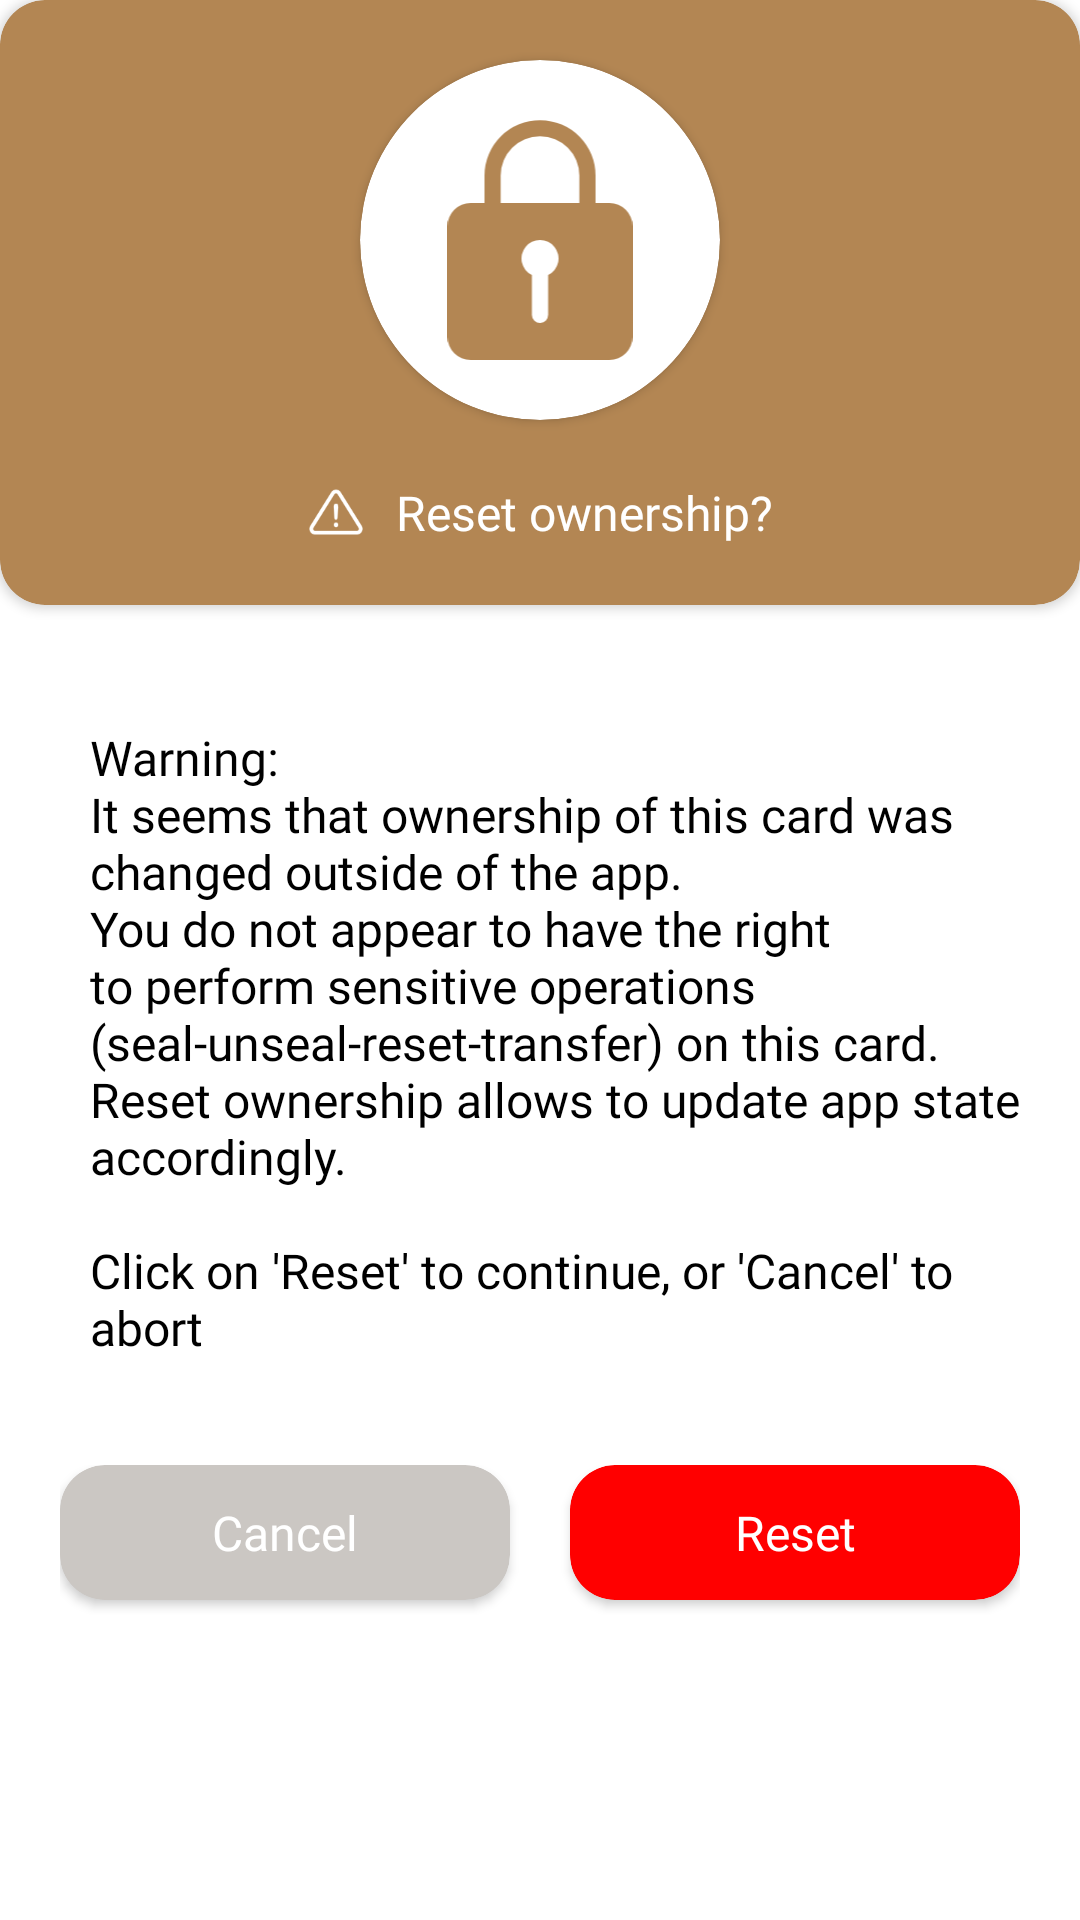

Where to tap for icons on this 1080w x 1920h app screen, as (x=x, y=y):
lock: (x=540, y=240)
warning: (x=336, y=512)
